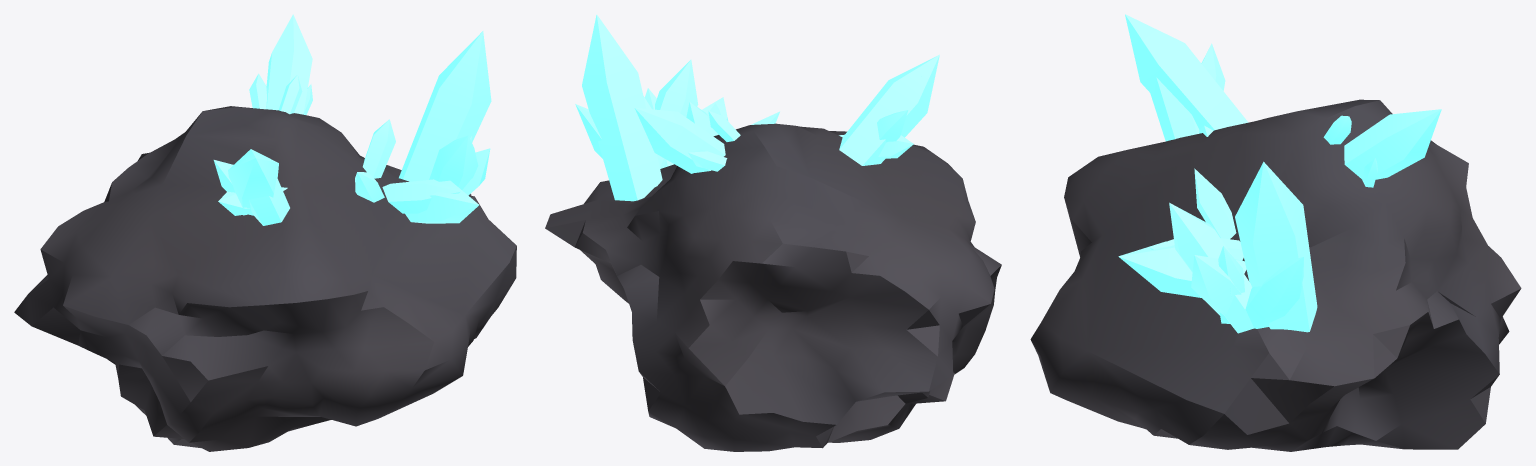
Rendered from asteroid_crystal_01.glb.
3 renders of one model, left to right at view 1: azimuth 30°, elevation 25°; view 2: azimuth 150°, elevation 25°; view 3: azimuth 270°, elevation 25°, orthographic. The views are drawn at different scales.
Parts seen in each view (by area): view 1: asteroid_crystal_01; view 2: asteroid_crystal_01; view 3: asteroid_crystal_01.
Part boxes in pixels (<box>): asteroid_crystal_01: <box>14,14,516,451</box>; asteroid_crystal_01: <box>545,14,1001,451</box>; asteroid_crystal_01: <box>1030,14,1521,451</box>.
Bounding box in the file's own units: 2.81 × 2.22 × 2.39.
